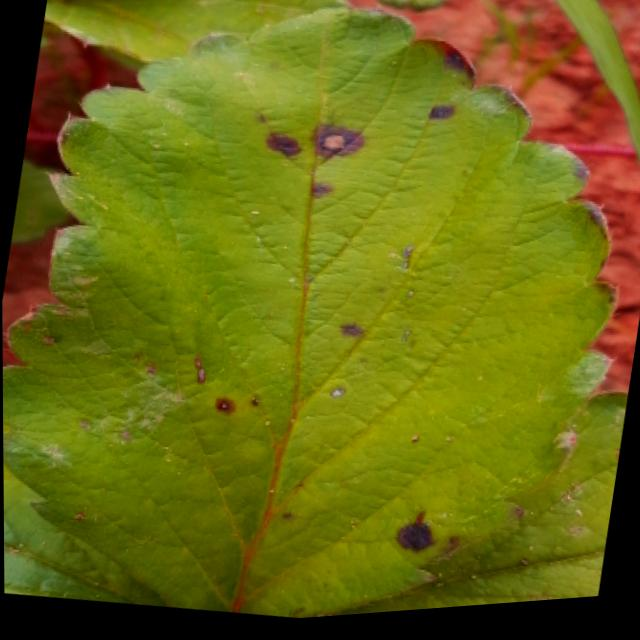Leaf Spot: (2, 10, 621, 623), (334, 401, 627, 621), (3, 465, 162, 609)
